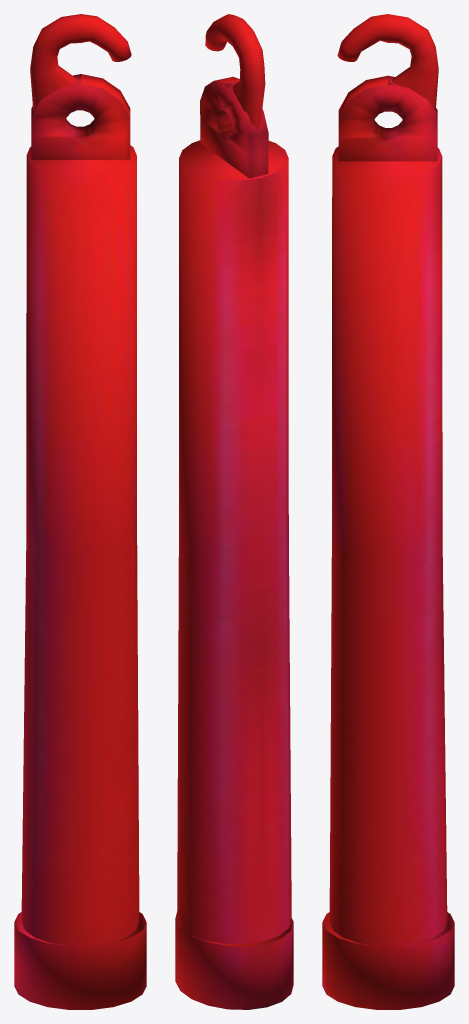
File: AZGlowstick.fbx
The picture shows the model from 3 angles, left to right: view 1: azimuth 90°, elevation 25°; view 2: azimuth 210°, elevation 25°; view 3: azimuth 270°, elevation 25°; orthographic projection.
Visible parts, largest first — view 1: Glowstick; view 2: Glowstick; view 3: Glowstick.
Part boxes in pixels (x1=…): Glowstick: x1=14, y1=14, x2=146, y2=1009; Glowstick: x1=175, y1=14, x2=293, y2=1009; Glowstick: x1=322, y1=14, x2=454, y2=1009.
Size of the model in its own units: 0.0169 by 0.1605 by 0.0198.
